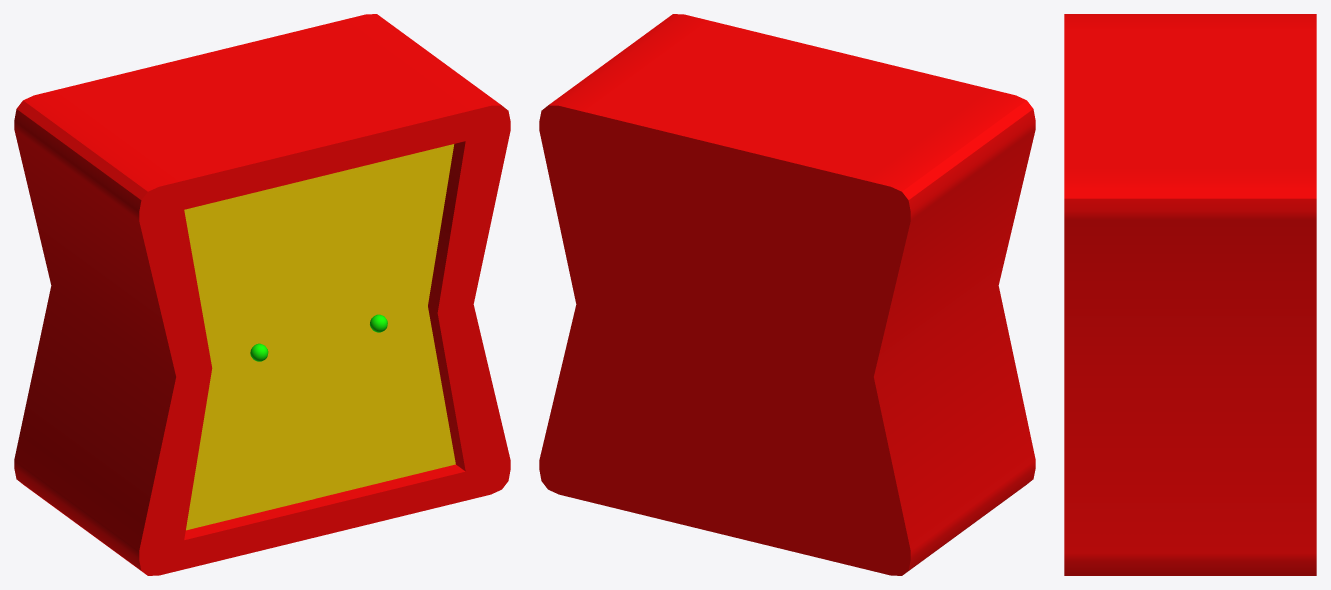
Rendered from umgebung_roy_kleiderschrank_low.FBX.
3 views of the same model, side by side, from view 1: azimuth 30°, elevation 25°; view 2: azimuth 150°, elevation 25°; view 3: azimuth 270°, elevation 25° (orthographic).
Visible parts, largest first — view 1: o_schrank_roy_low, i_schrank_tuer_low, o_schrank_tuer_low; view 2: o_schrank_roy_low; view 3: o_schrank_roy_low.
Part boxes in pixels (x1=…): o_schrank_roy_low: x1=14, y1=14, x2=510, y2=575; i_schrank_tuer_low: x1=315, y1=144, x2=455, y2=498; o_schrank_tuer_low: x1=184, y1=178, x2=315, y2=530; o_schrank_roy_low: x1=539, y1=14, x2=1035, y2=575; o_schrank_roy_low: x1=1064, y1=14, x2=1316, y2=575.
Bounding box in the file's own units: 150 × 87.35 × 150.
